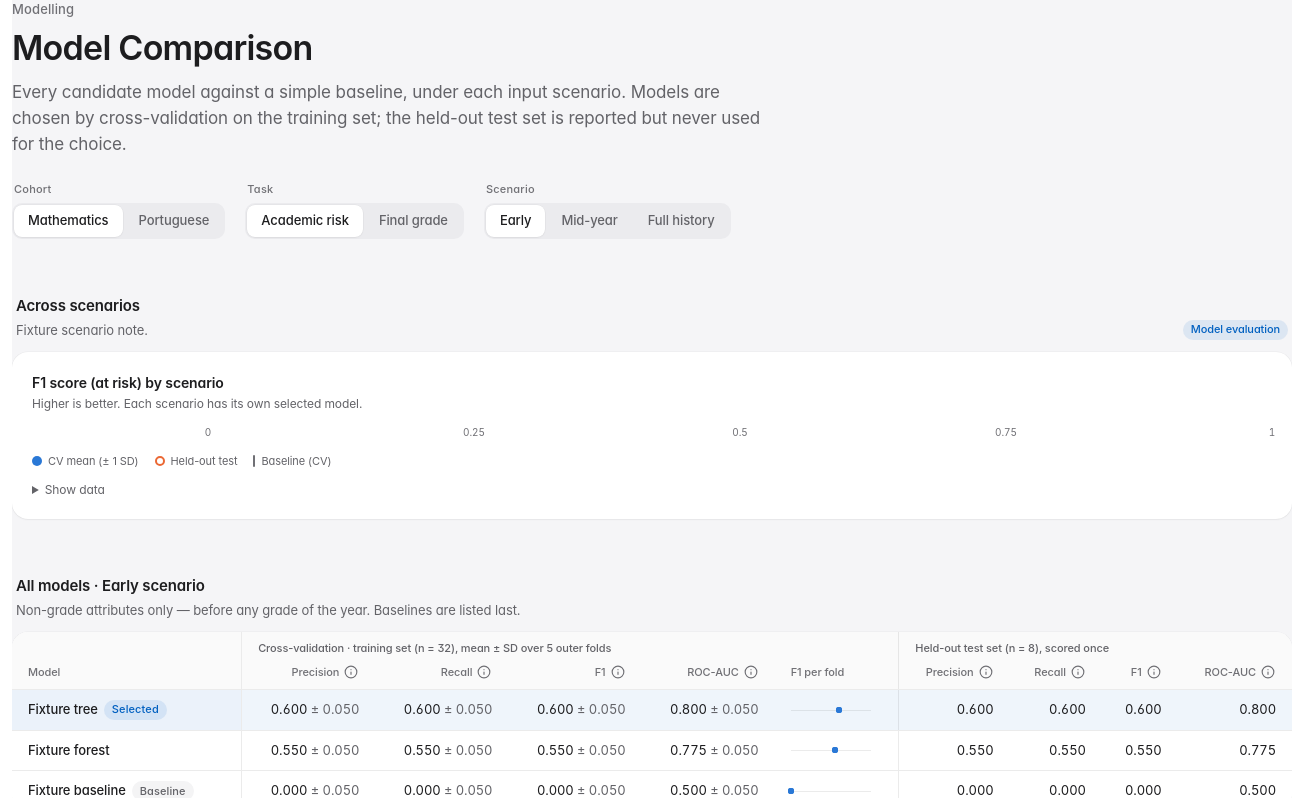
it: ModelComparisonView › switches to regression metrics and refetches
What coordinates should you click on to do the following:
click the radio button labelled "Final grade"
I would click on:
 (413, 221)
Its box is [365,205,462,237].
(page scrolled)
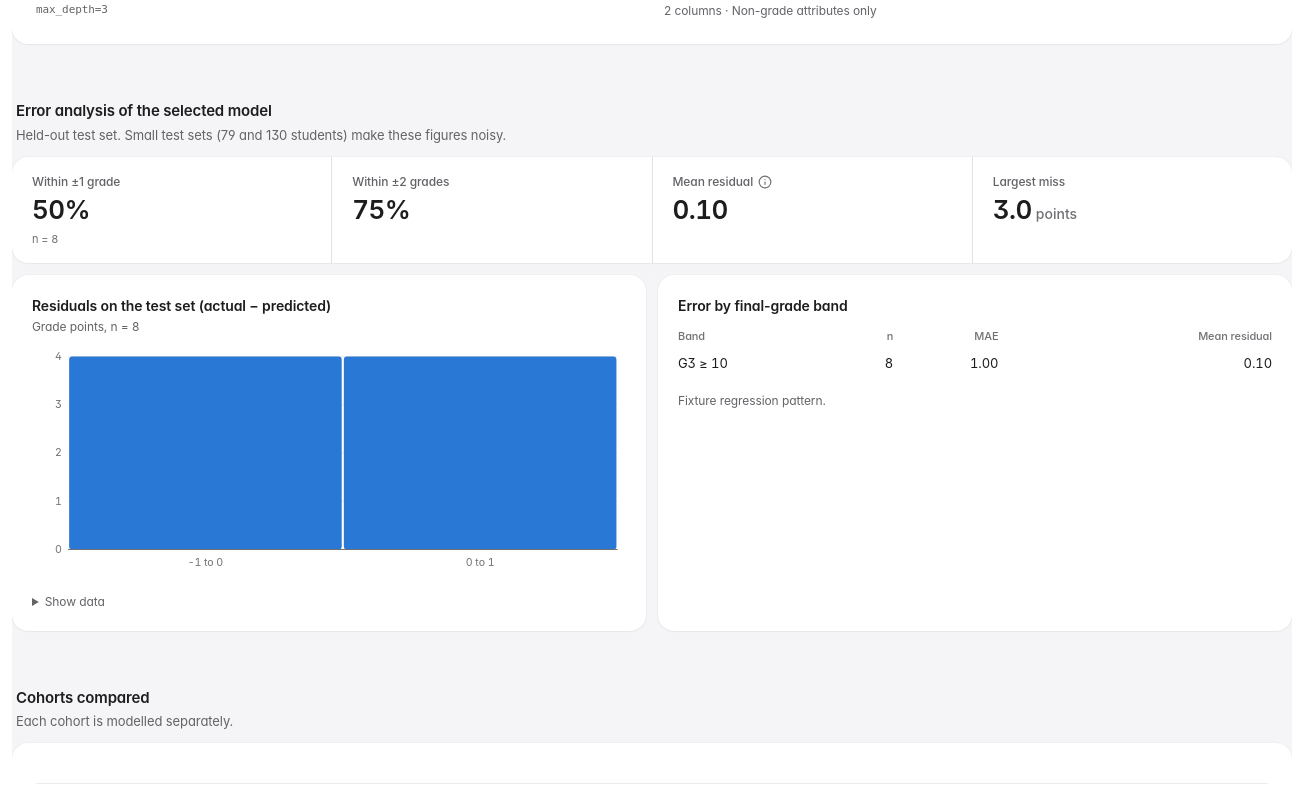
Expected: the list item "Fixture regression pattern." is shown, [678,393,826,408]
